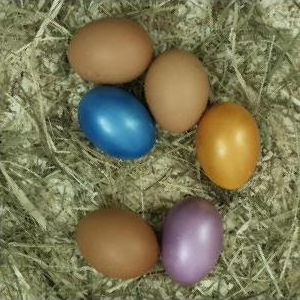egg: (77, 208, 161, 282), (67, 18, 154, 85), (160, 197, 224, 287), (78, 86, 155, 160), (196, 102, 260, 191), (144, 48, 210, 133)
